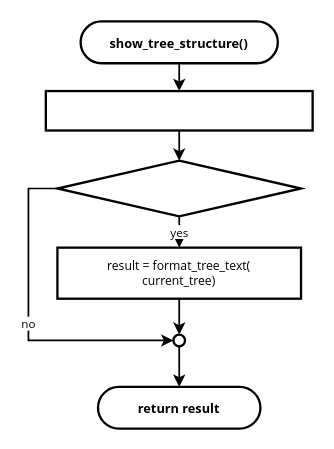
Image size: 334x449. Some labels were removed from this diagram. Here are the shapes that lost their labels. From the top down, the centre of each, then its label:
(178,110): result = "Tree not trained yet"
(179,188): current_tree not None
